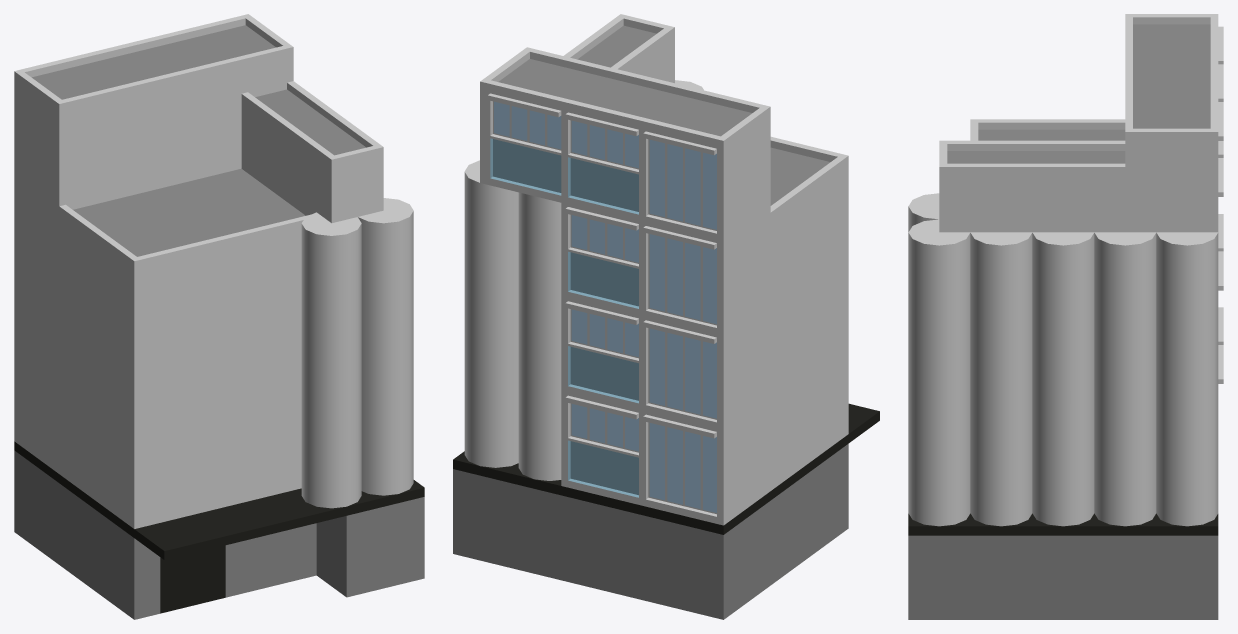
Rendered from building (2).fbx.
The picture shows the model from 3 angles, left to right: view 1: azimuth 30°, elevation 25°; view 2: azimuth 150°, elevation 25°; view 3: azimuth 270°, elevation 25°; orthographic projection. The views are drawn at different scales.
Visible parts, largest first — view 1: Group1; view 2: Group1; view 3: Group1.
Part boxes in pixels (x1=…): Group1: x1=14, y1=14, x2=424, y2=619; Group1: x1=453, y1=14, x2=879, y2=619; Group1: x1=908, y1=14, x2=1223, y2=619.
Bounding box in the file's own units: 120 × 203 × 122.
